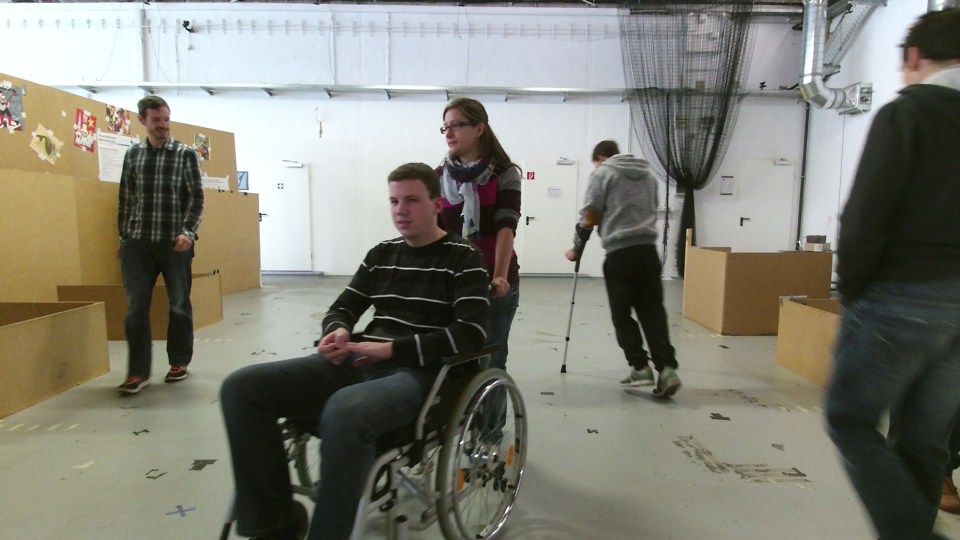crutches: (556, 132, 685, 403)
